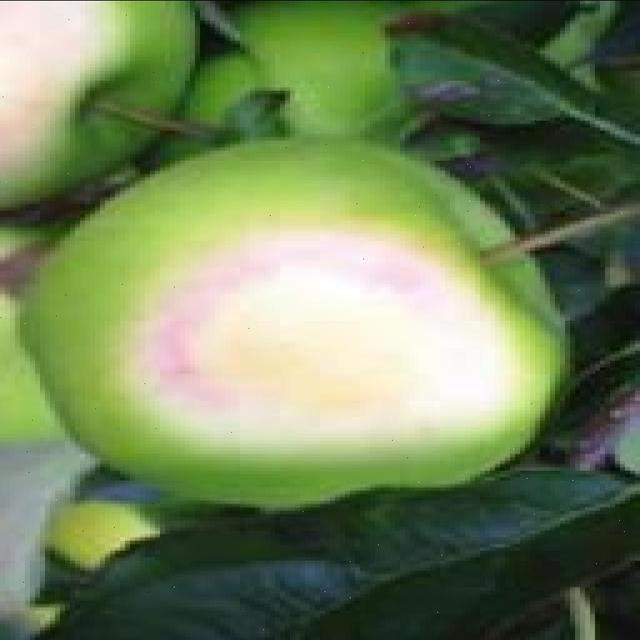Sunscald Fruit: (83, 141, 363, 308)
